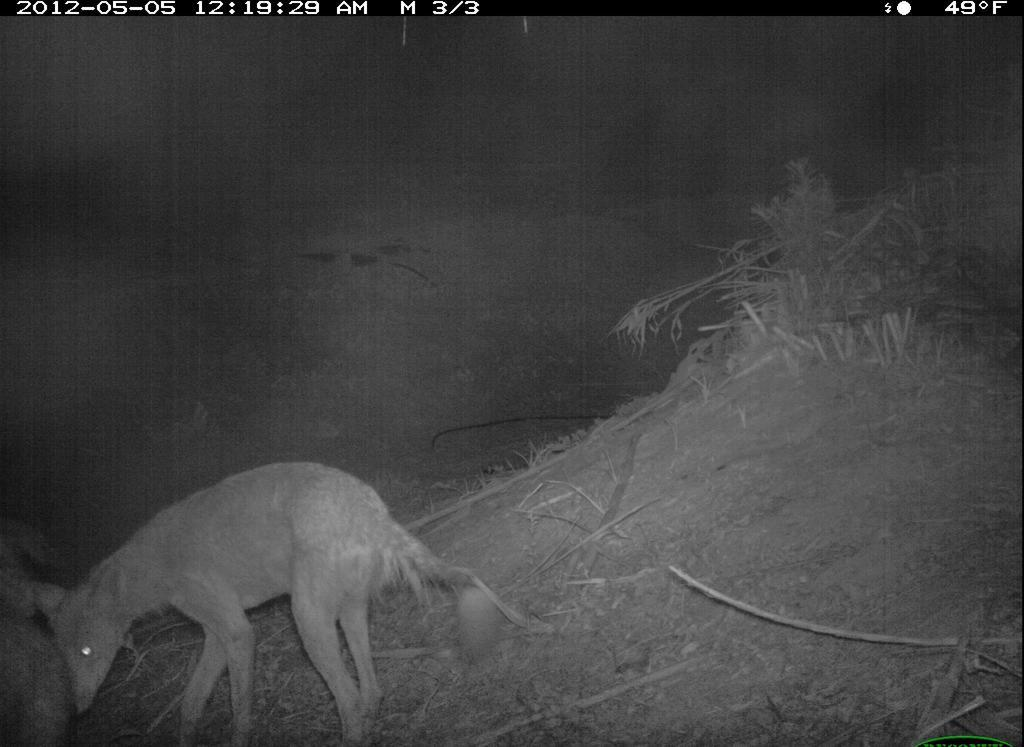coyote: (25, 455, 485, 747)
